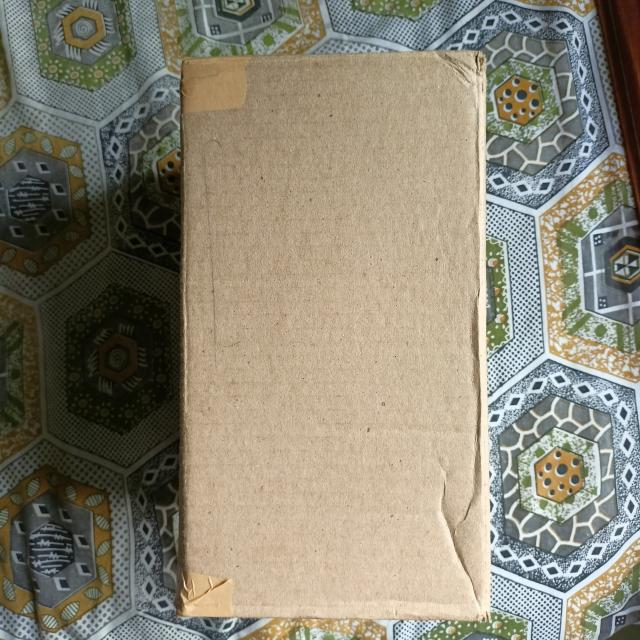box: (185, 55, 490, 616)
